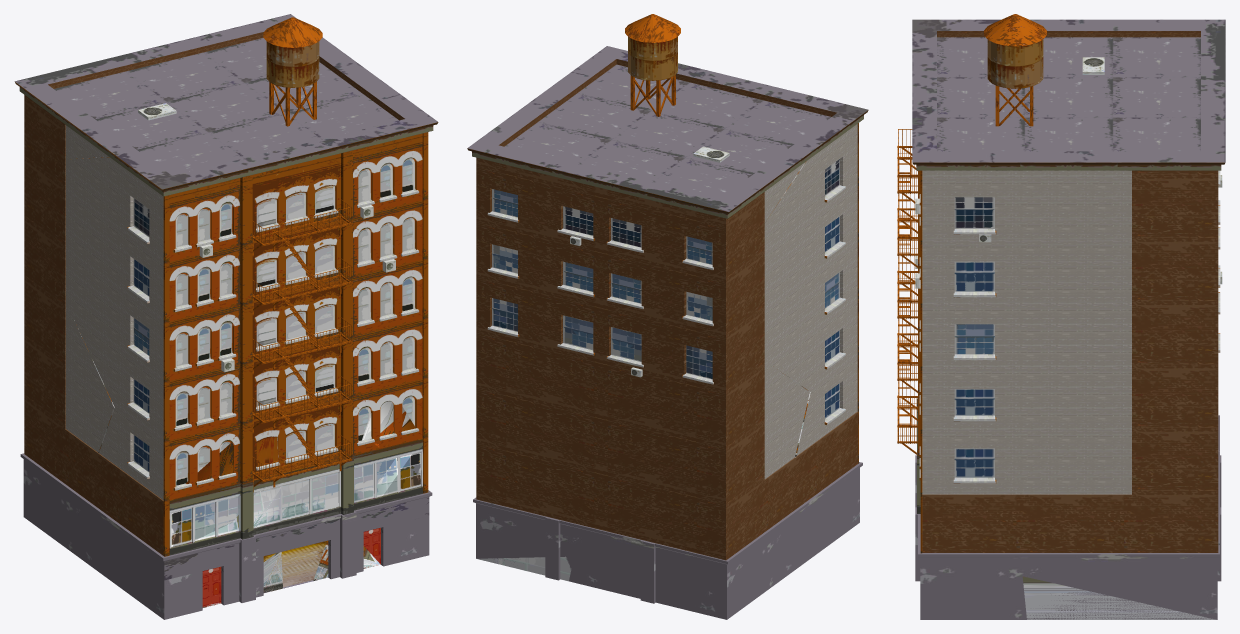
The model's file is A01_Destr2.FBX.
The picture shows the model from 3 angles, left to right: view 1: azimuth 30°, elevation 25°; view 2: azimuth 150°, elevation 25°; view 3: azimuth 270°, elevation 25°; orthographic projection. The views are drawn at different scales.
Parts seen in each view (by area): view 1: K_Building_A01_00_Part_2, K_Building_A01_00_Part_9, K_Building_A01_00_Part_3, K_Building_A01_00_Part_8, K_Building_A01_00_Part_1, K_Building_A01_00_Part_11, K_Building_A01_00_Part_13, K_Building_A01_00_Part_15, K_Building_A01_00_Part_10, K_Building_A01_00_Part_12, K_Building_A01_00_Part_6; view 2: K_Building_A01_00_Part_9, K_Building_A01_00_Part_14, K_Building_A01_00_Part_6, K_Building_A01_00_Part_15, K_Building_A01_00_Part_8, K_Building_A01_00_Part_12, K_Building_A01_00_Part_2, K_Building_A01_00_Part_3, K_Building_A01_00_Part_10, K_Building_A01_00_Part_7, K_Building_A01_00_Part_4; view 3: K_Building_A01_00_Part_13, K_Building_A01_00_Part_7, K_Building_A01_00_Part_2, K_Building_A01_00_Part_11, K_Building_A01_00_Part_8, K_Building_A01_00_Part_6, K_Building_A01_00_Part_10, K_Building_A01_00_Part_14, K_Building_A01_00_Part_9, K_Building_A01_00_Part_1, K_Building_A01_00_Part_3.
Boxes of the visible parts, bbox=[...] form: K_Building_A01_00_Part_2: bbox=[193, 17, 438, 311]; K_Building_A01_00_Part_9: bbox=[24, 154, 272, 407]; K_Building_A01_00_Part_3: bbox=[94, 350, 290, 619]; K_Building_A01_00_Part_8: bbox=[14, 34, 230, 163]; K_Building_A01_00_Part_1: bbox=[275, 355, 385, 588]; K_Building_A01_00_Part_11: bbox=[313, 359, 432, 580]; K_Building_A01_00_Part_13: bbox=[263, 270, 428, 370]; K_Building_A01_00_Part_15: bbox=[24, 215, 114, 464]; K_Building_A01_00_Part_10: bbox=[163, 37, 339, 177]; K_Building_A01_00_Part_12: bbox=[20, 419, 114, 583]; K_Building_A01_00_Part_6: bbox=[207, 14, 296, 49]; K_Building_A01_00_Part_9: bbox=[665, 102, 868, 391]; K_Building_A01_00_Part_14: bbox=[476, 300, 651, 499]; K_Building_A01_00_Part_6: bbox=[467, 130, 679, 350]; K_Building_A01_00_Part_15: bbox=[633, 333, 810, 527]; K_Building_A01_00_Part_8: bbox=[545, 128, 822, 296]; K_Building_A01_00_Part_12: bbox=[569, 473, 813, 619]; K_Building_A01_00_Part_2: bbox=[514, 14, 838, 118]; K_Building_A01_00_Part_3: bbox=[792, 314, 862, 556]; K_Building_A01_00_Part_10: bbox=[492, 42, 829, 160]; K_Building_A01_00_Part_7: bbox=[473, 423, 571, 581]; K_Building_A01_00_Part_4: bbox=[534, 479, 629, 568]; K_Building_A01_00_Part_13: bbox=[897, 202, 1191, 438]; K_Building_A01_00_Part_7: bbox=[1009, 420, 1221, 619]; K_Building_A01_00_Part_2: bbox=[897, 14, 1120, 317]; K_Building_A01_00_Part_11: bbox=[915, 398, 1026, 619]; K_Building_A01_00_Part_8: bbox=[982, 19, 1225, 129]; K_Building_A01_00_Part_6: bbox=[1127, 119, 1225, 331]; K_Building_A01_00_Part_10: bbox=[922, 37, 1193, 210]; K_Building_A01_00_Part_14: bbox=[1125, 265, 1222, 466]; K_Building_A01_00_Part_9: bbox=[897, 19, 1000, 268]; K_Building_A01_00_Part_1: bbox=[897, 282, 920, 475]; K_Building_A01_00_Part_3: bbox=[897, 264, 917, 507].
Bounding box in the file's own units: 1611 × 2934 × 1564.
